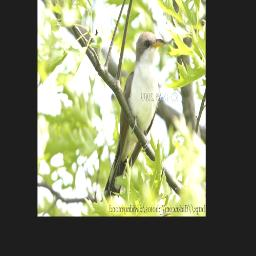Cuckoo: (104, 29, 166, 203)
